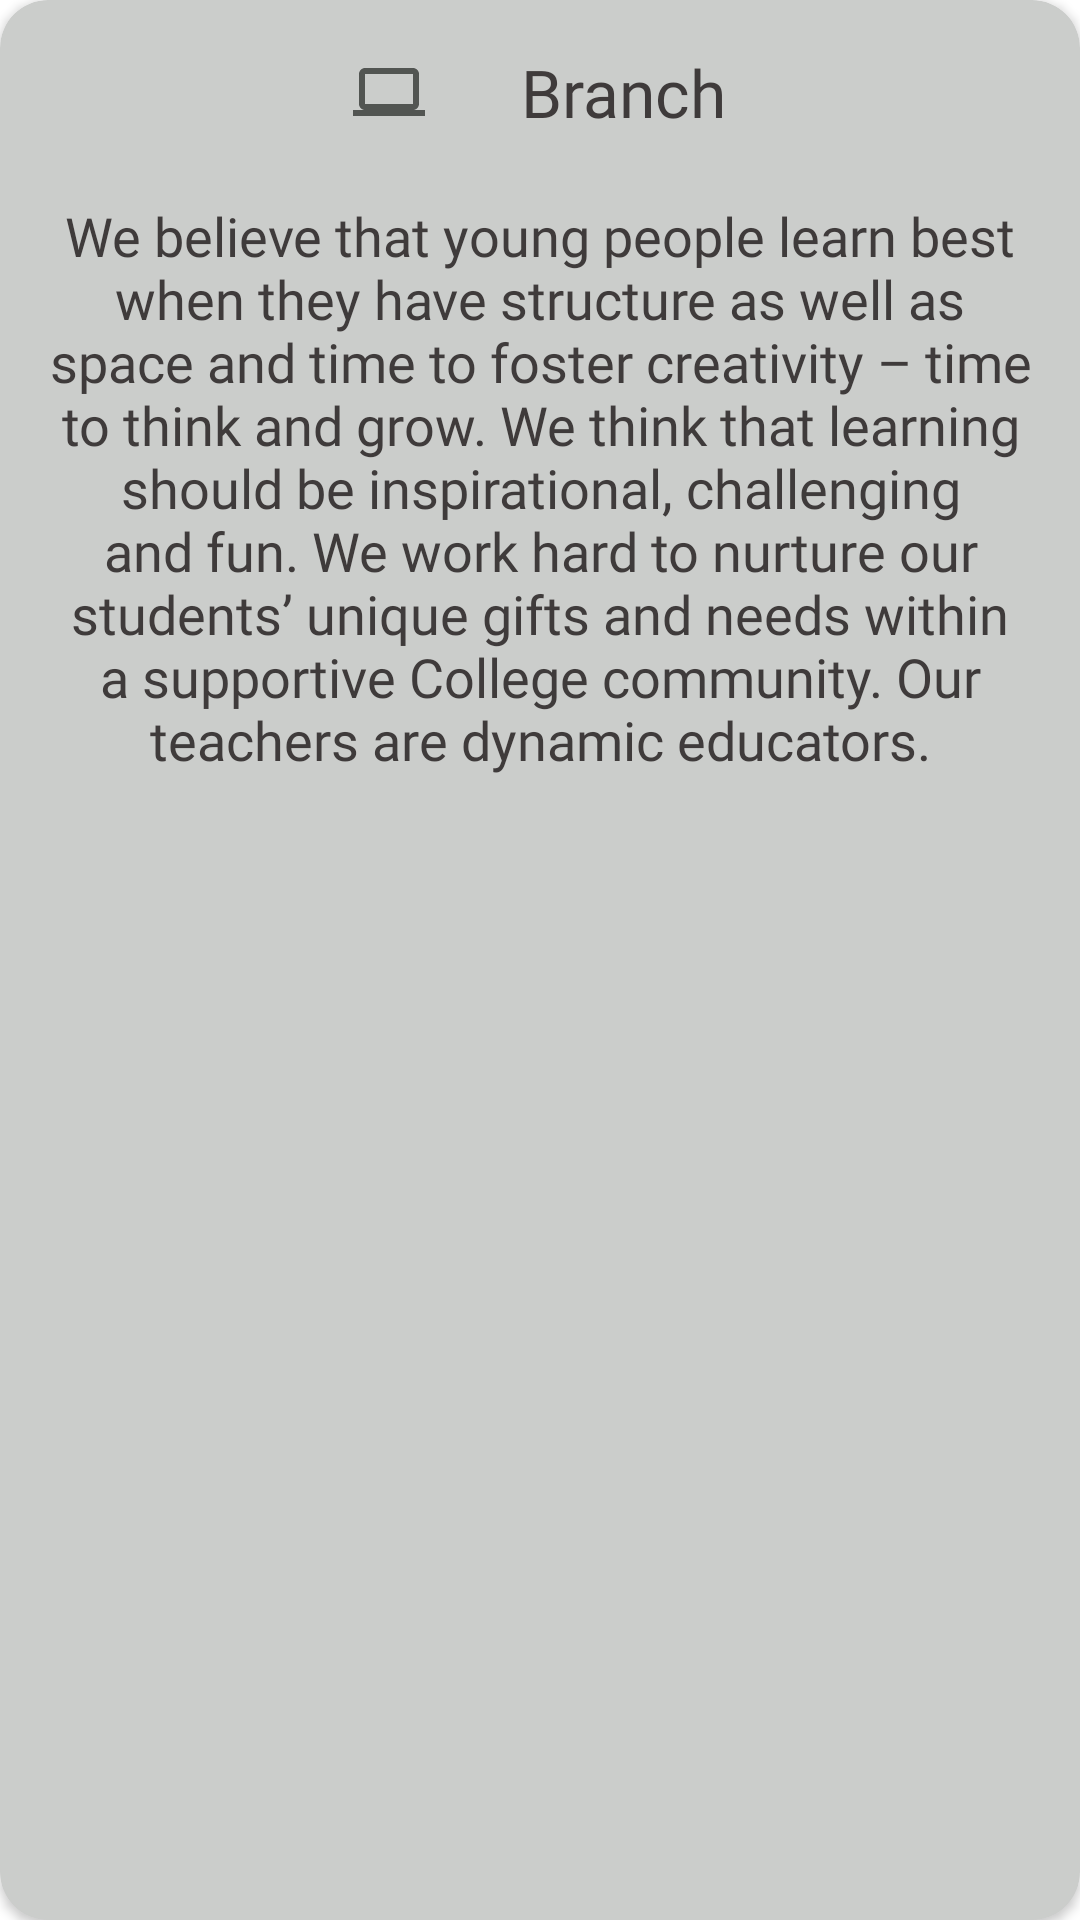

Screen size 1080 × 1920. Icon name, then its center in pixels as (x=x, y=y):
computer: (x=389, y=92)
